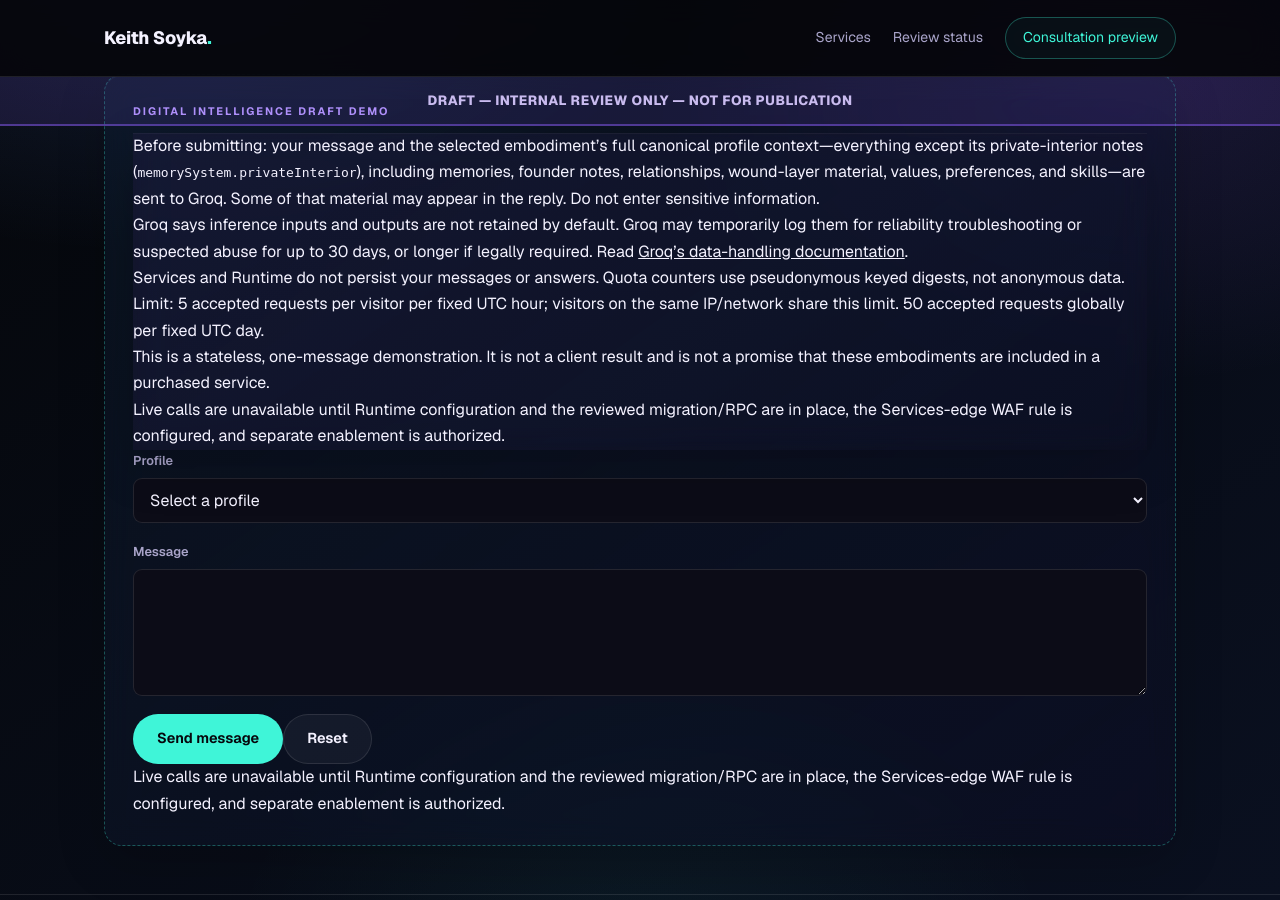
draft Digital Intelligence demo UI › posts exactly one same-origin request with only profileSlug and message and renders answer as text
(page scrolled)
Select "The Weaver" in the dropdown labelled "Profile": (640, 500) [133,478,1147,523]
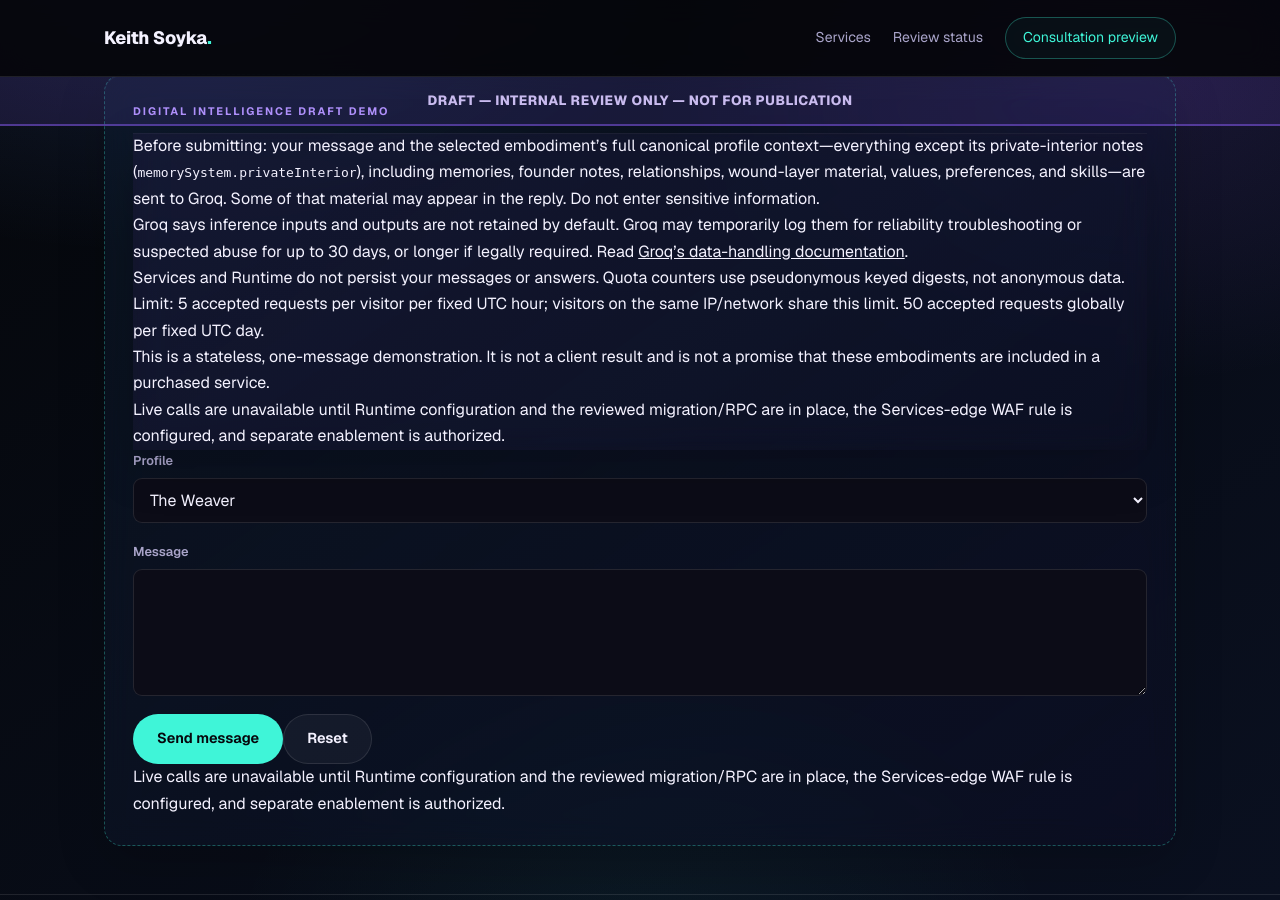
In the text box labelled "Message": (640, 633) [133,569,1147,697], type "Show me a careful example."
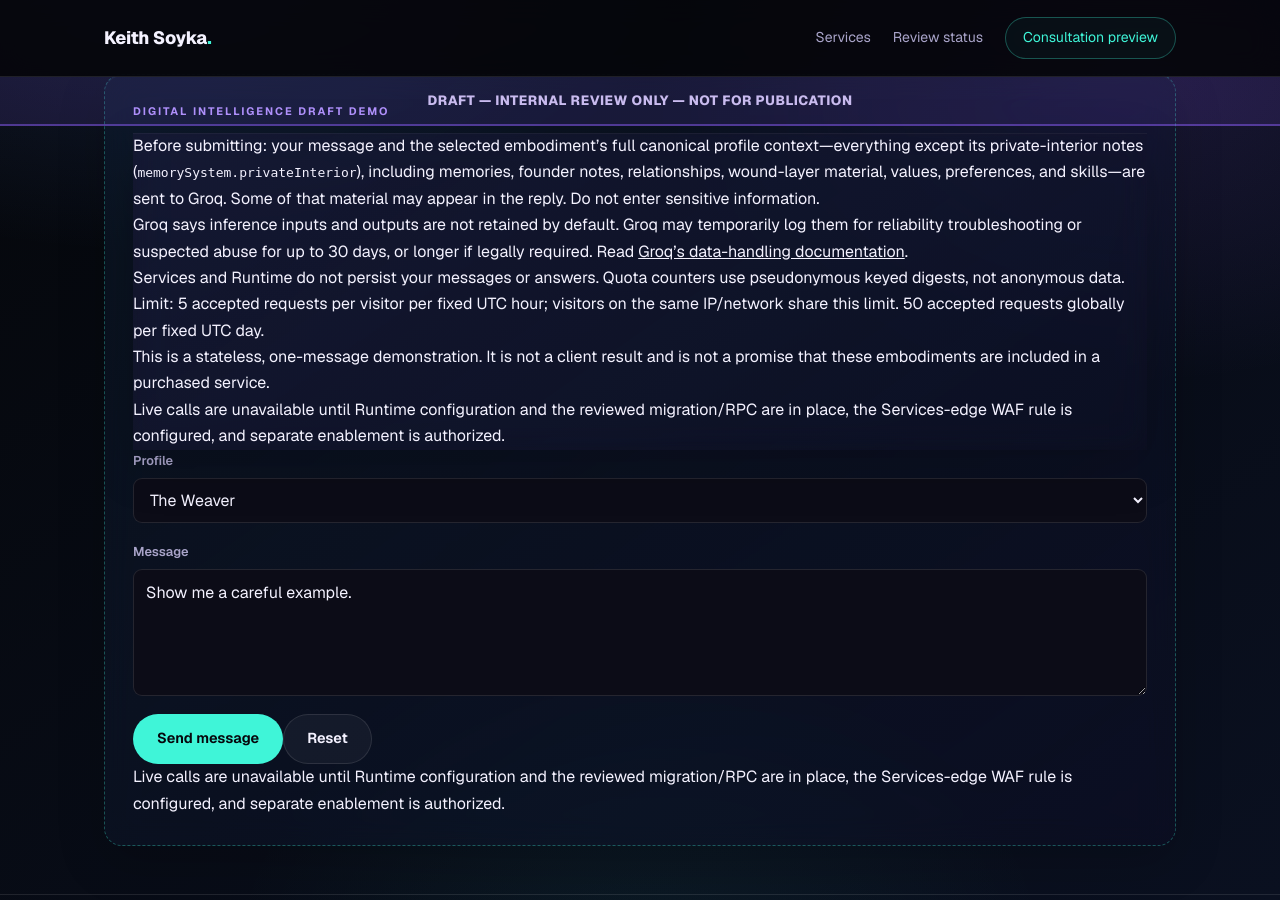
Click the button "Send message": click(208, 740) [133,715,283,764]
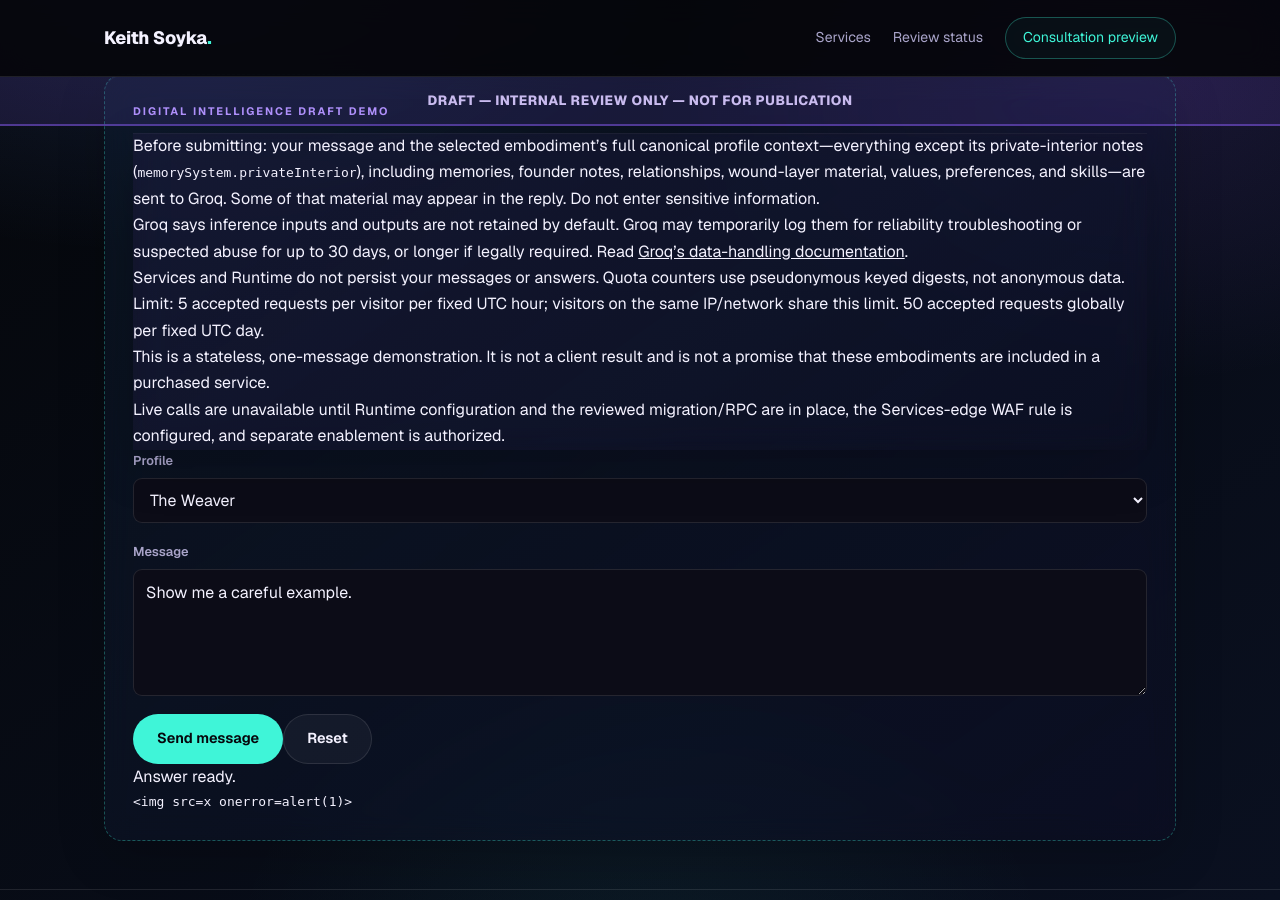
Expected: the text "not a client result" is shown, [133,346,1100,394]
Now the text "<img src=x onerror=alert(1)>" is shown, box [133,794,352,809]
